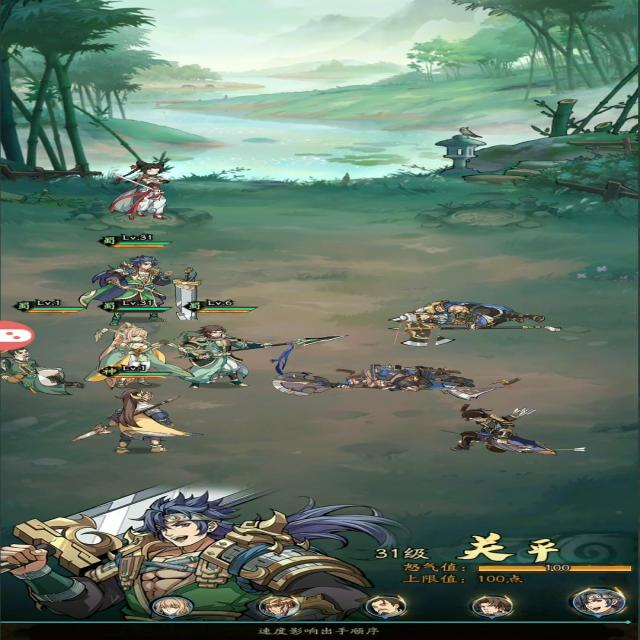hint-guide: (241, 614, 395, 640)
